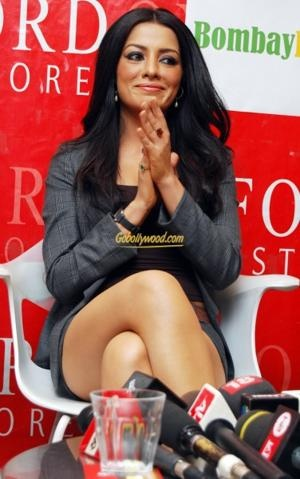person without safety: (45, 7, 244, 307)
